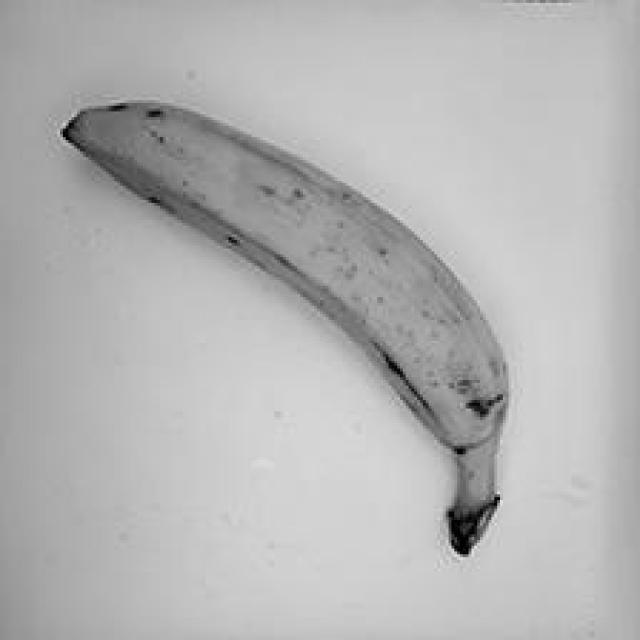Overripe: (52, 60, 549, 574)
